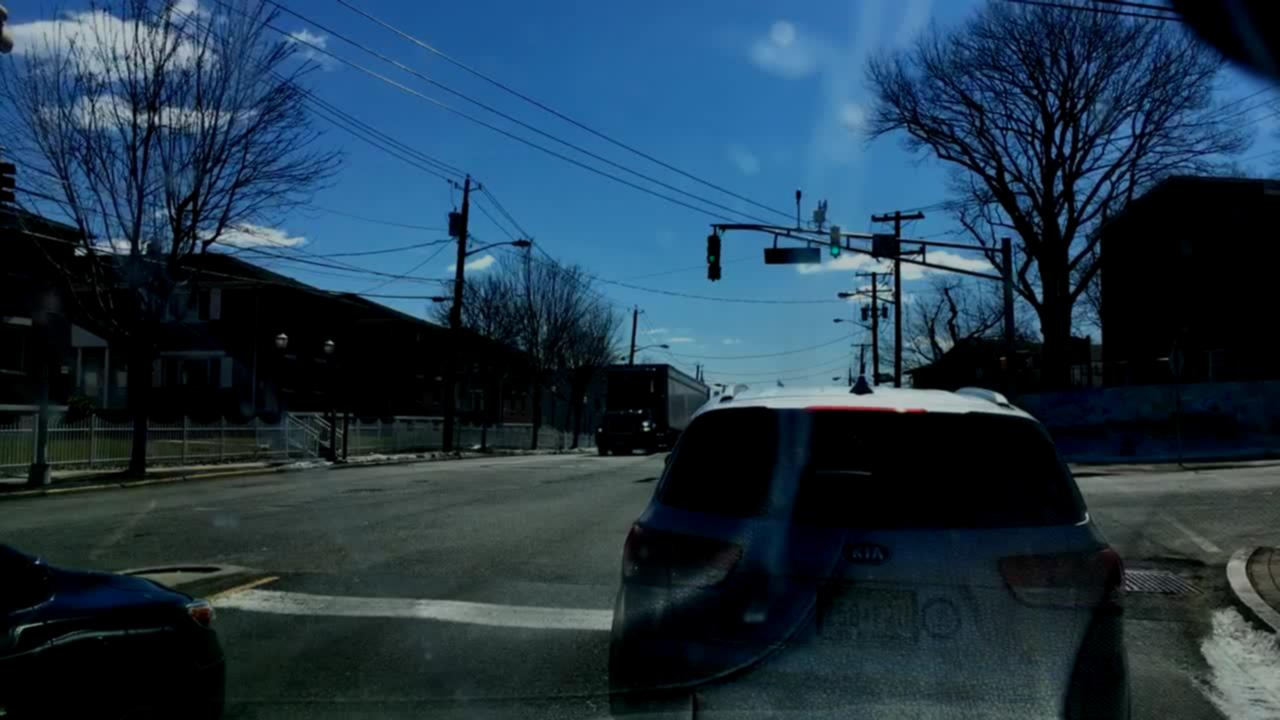kia: (836, 536, 900, 576)
